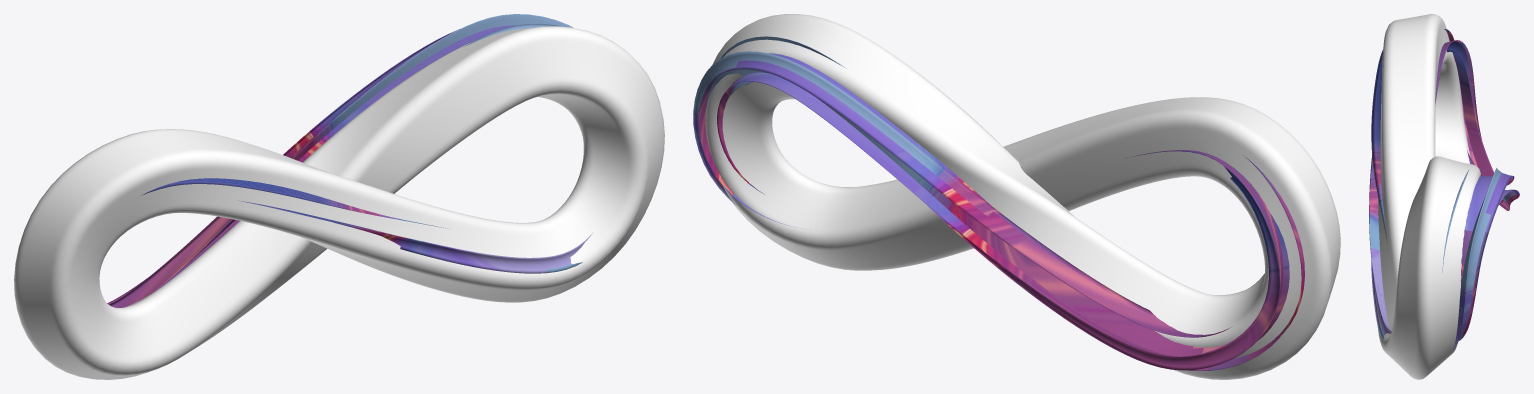
File: meta.glb
3 renders of one model, left to right at view 1: azimuth 30°, elevation 25°; view 2: azimuth 150°, elevation 25°; view 3: azimuth 270°, elevation 25°, orthographic. The views are drawn at different scales.
Visible parts, largest first — view 1: Infinity_loop, Infinity_loop.001; view 2: Infinity_loop, Infinity_loop.001; view 3: Infinity_loop, Infinity_loop.001.
Part boxes in pixels (left/top/right/bottom): Infinity_loop: left=14, top=26, right=664, bottom=379; Infinity_loop.001: left=107, top=14, right=593, bottom=307; Infinity_loop: left=705, top=14, right=1340, bottom=379; Infinity_loop.001: left=693, top=36, right=1304, bottom=370; Infinity_loop: left=1377, top=14, right=1480, bottom=379; Infinity_loop.001: left=1369, top=29, right=1519, bottom=349.
Bounding box in the file's own units: 5.44 × 2.1 × 1.43.
Materials: 2 (1 with a texture image).
